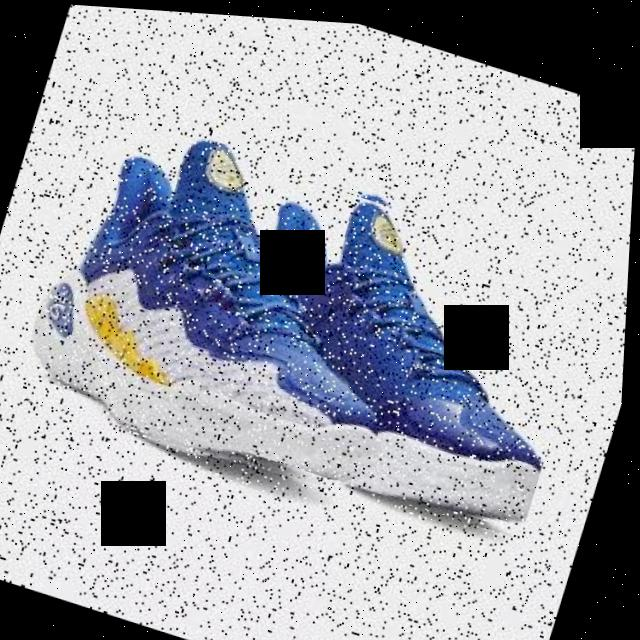shoe: (13, 99, 439, 502), (174, 156, 607, 535)
